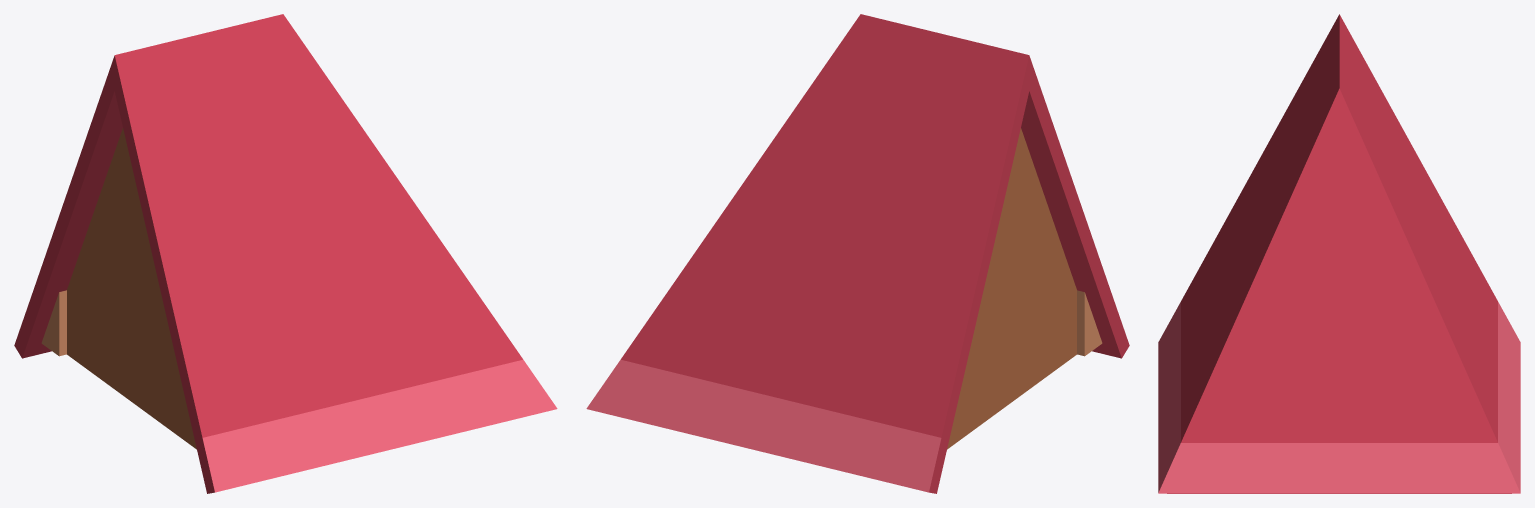
File: roofHighGableEnd.glb
3 renders of one model, left to right at view 1: azimuth 30°, elevation 25°; view 2: azimuth 150°, elevation 25°; view 3: azimuth 270°, elevation 25°, orthographic. The views are drawn at different scales.
Parts seen in each view (by area): view 1: roofHighGableEnd; view 2: roofHighGableEnd; view 3: roofHighGableEnd.
Part boxes in pixels (<box>): roofHighGableEnd: <box>14,14,557,493</box>; roofHighGableEnd: <box>586,14,1129,493</box>; roofHighGableEnd: <box>1158,14,1520,493</box>.
Bounding box in the file's own units: 3.35 × 3.47 × 3.4.
